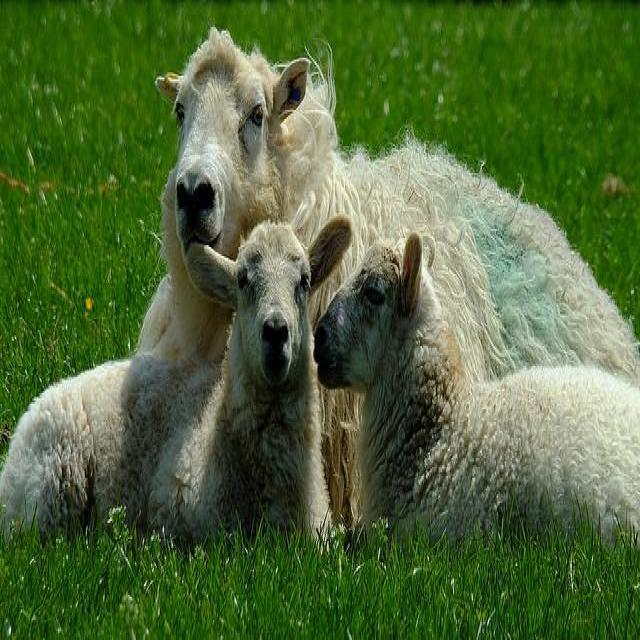Sheep: (135, 29, 639, 542), (0, 216, 355, 592), (313, 231, 639, 564)
